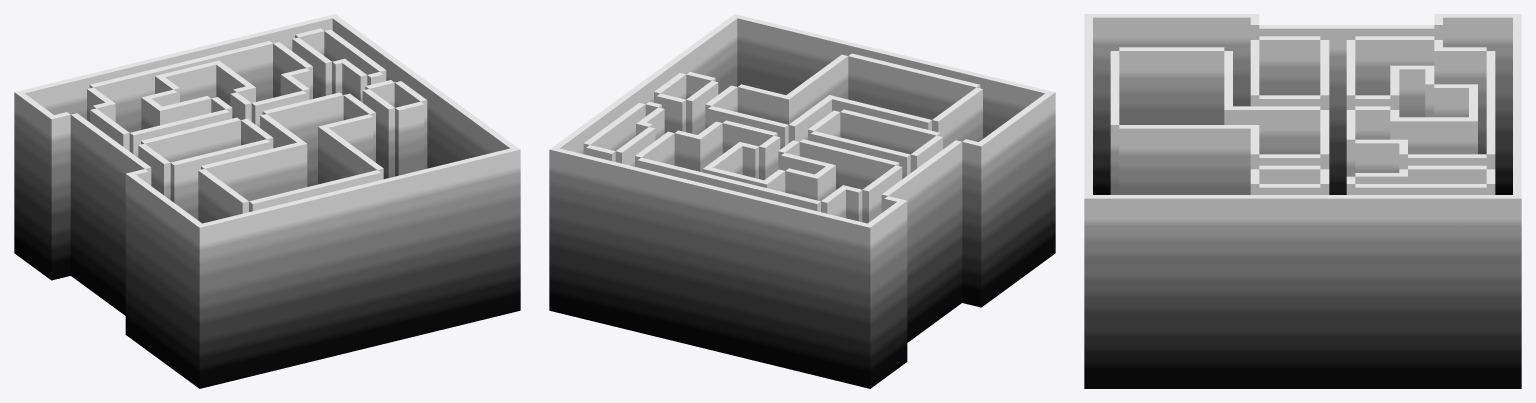
File: Maze.dae
The picture shows the model from 3 angles, left to right: view 1: azimuth 30°, elevation 25°; view 2: azimuth 150°, elevation 25°; view 3: azimuth 270°, elevation 25°; orthographic projection. The views are drawn at different scales.
Visible parts, largest first — view 1: Labyrinthe; view 2: Labyrinthe; view 3: Labyrinthe.
Boxes of the visible parts, left/top/right/bottom form: Labyrinthe: left=14, top=14, right=520, bottom=388; Labyrinthe: left=549, top=14, right=1055, bottom=388; Labyrinthe: left=1084, top=14, right=1521, bottom=388.
Bounding box in the file's own units: 50 × 24 × 50.
1 material, 1 textured.
